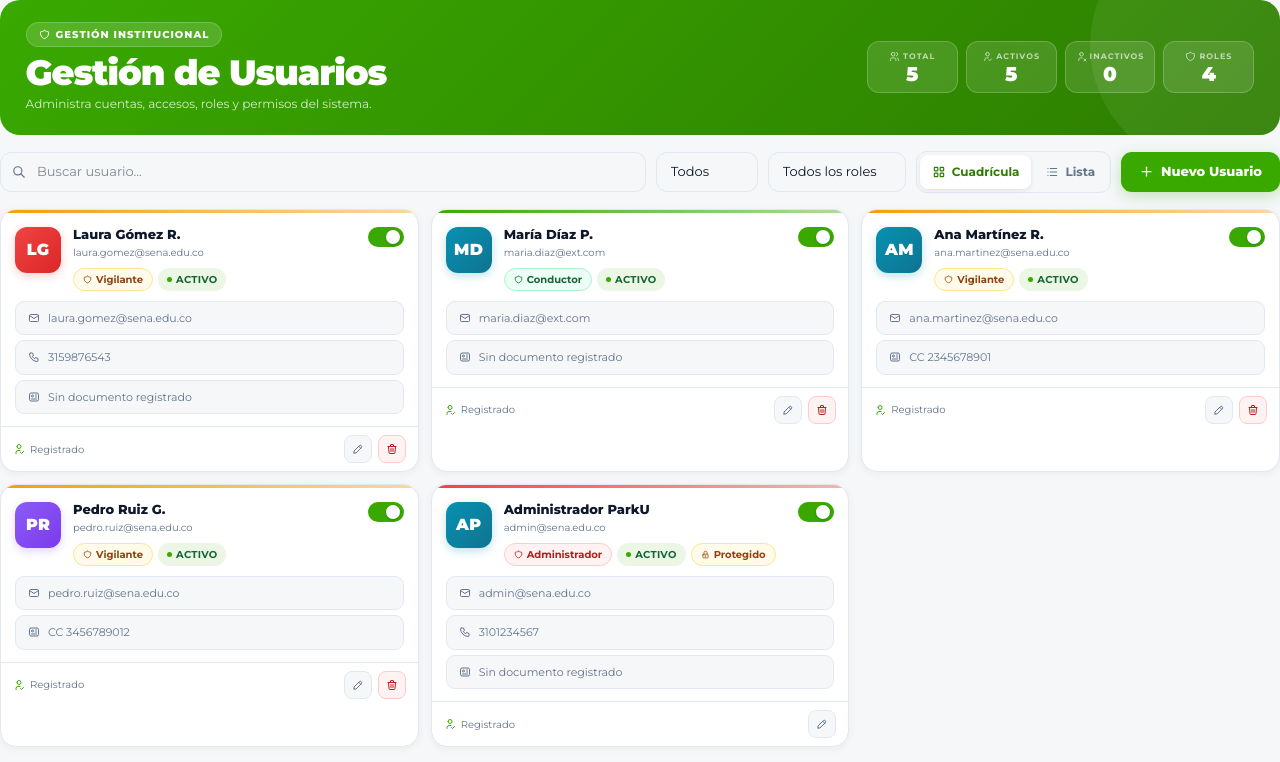
Test case: Usuarios › abre el modal de creación con el formulario vacío al hacer click en "Nuevo Usuario"
Check: the text "Ana Martínez R." is shown, box [934,226,1044,242]
Step 1. Click the button "Nuevo Usuario" → (1200, 172), box [1121,152,1279,192]
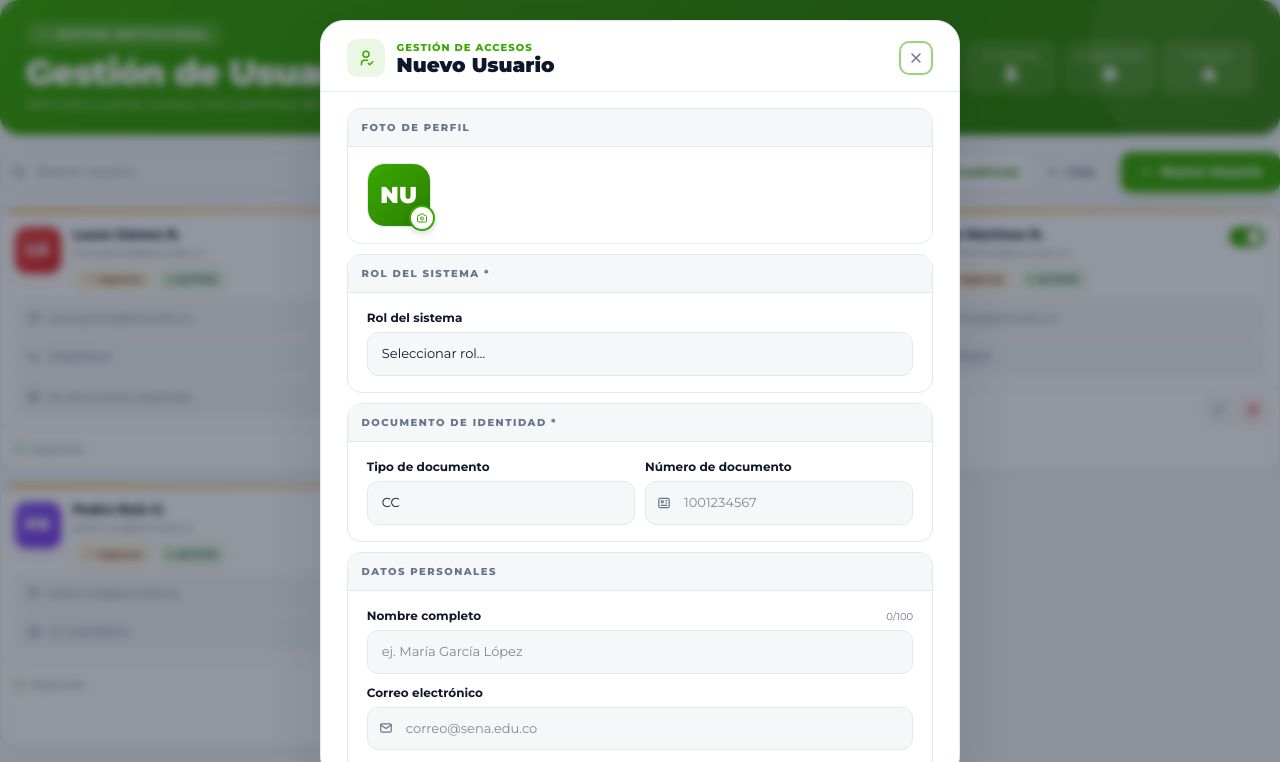
Check: the heading "Nuevo Usuario" is shown, box [397,55,555,75]
Check: the field with placeholder "ej. María García López" is empty, box [367,630,913,674]
